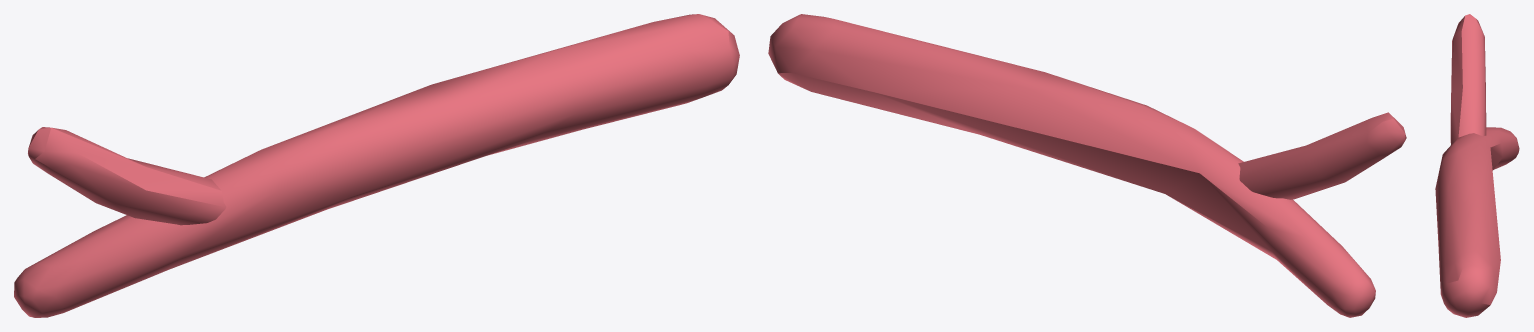
Rendered from fma68928_cx194.glb.
3 views of the same model, side by side, from view 1: azimuth 30°, elevation 25°; view 2: azimuth 150°, elevation 25°; view 3: azimuth 270°, elevation 25° (orthographic). The views are drawn at different scales.
Parts seen in each view (by area): view 1: FMA68928_CX194; view 2: FMA68928_CX194; view 3: FMA68928_CX194.
Boxes of the visible parts, <box> form: FMA68928_CX194: <box>14,14,739,317</box>; FMA68928_CX194: <box>768,14,1406,317</box>; FMA68928_CX194: <box>1435,14,1519,317</box>.
Size of the model in its own units: 0.0381 by 0.0109 by 0.0058.
